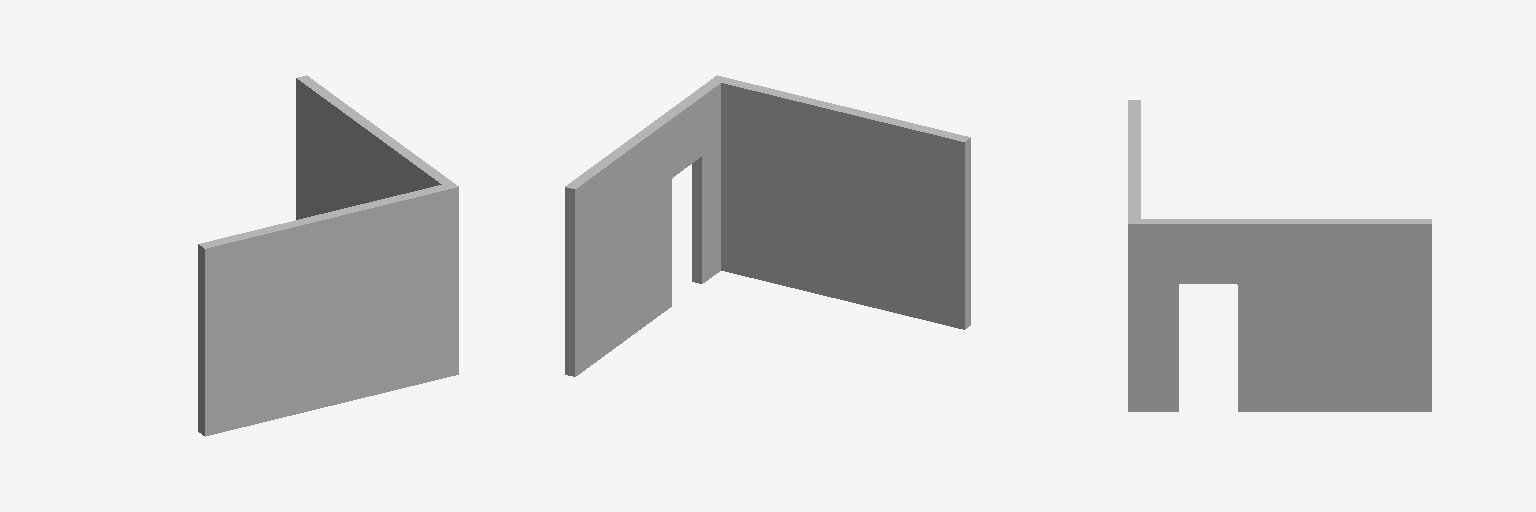
Rendered from wall5.obj.
3 views of the same model, side by side, from view 1: azimuth 30°, elevation 25°; view 2: azimuth 150°, elevation 25°; view 3: azimuth 270°, elevation 25° (orthographic).
Visible parts, largest first — view 1: 立方体.001, 立方体.002, 立方体; view 2: 立方体.001, 立方体.002, 立方体, 立方体.003; view 3: 立方体.002, 立方体, 立方体.003, 立方体.001.
Part boxes in pixels (x1,y1,x2,y2): 立方体.001: (198, 182, 458, 436); 立方体.002: (296, 78, 384, 219); 立方体: (297, 75, 451, 197); 立方体.001: (711, 75, 970, 329); 立方体.002: (565, 179, 671, 376); 立方体: (565, 80, 720, 188); 立方体.003: (692, 85, 720, 283); 立方体.002: (1237, 224, 1431, 411); 立方体: (1141, 219, 1431, 284); 立方体.003: (1141, 225, 1178, 411); 立方体.001: (1128, 100, 1140, 411).
Size of the model in its own units: 1.93 by 1.36 by 2.